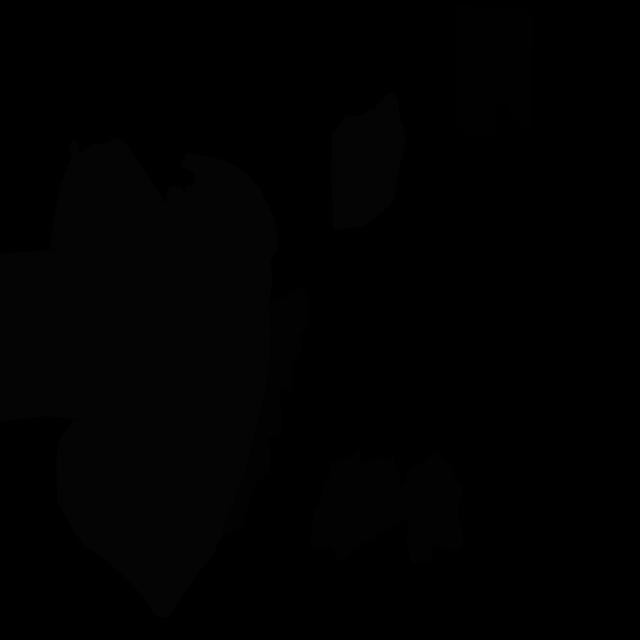cardboard: (223, 287, 310, 537), (310, 449, 464, 564)
rigid_plastic: (454, 4, 534, 140)
soft_plastic: (49, 137, 278, 618), (0, 245, 153, 423), (331, 93, 406, 231)
